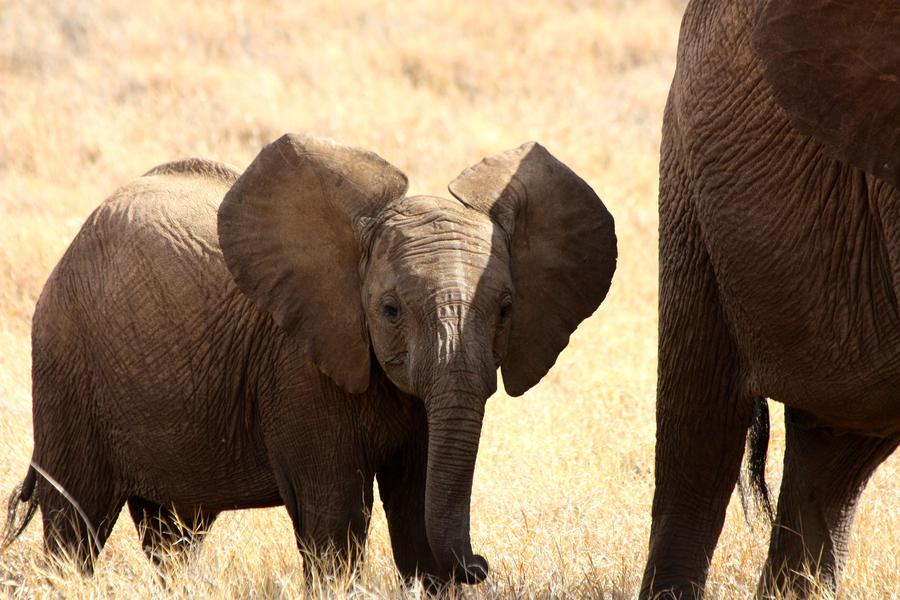elephant: (238, 145, 593, 400)
